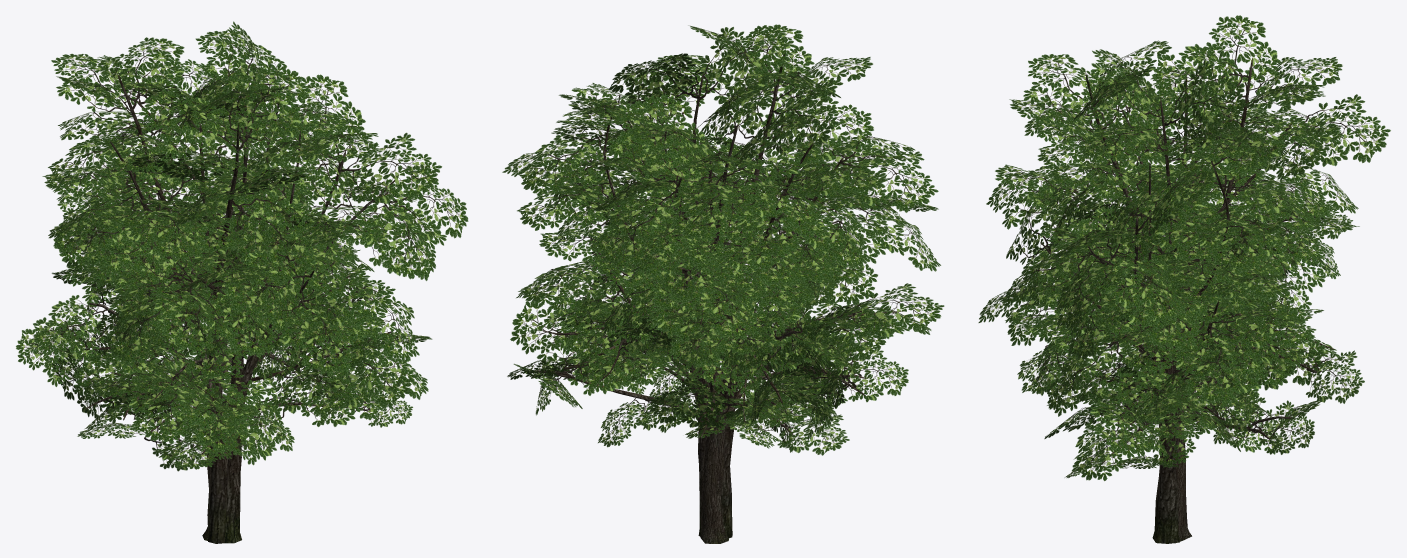
The model's file is tree1.glb.
3 renders of one model, left to right at view 1: azimuth 30°, elevation 25°; view 2: azimuth 150°, elevation 25°; view 3: azimuth 270°, elevation 25°, orthographic. The views are drawn at different scales.
Parts seen in each view (by area): view 1: treetop_0, treetop.008_0, trunk_0, trunk.008_0; view 2: treetop_0, treetop.008_0, trunk.008_0, trunk_0; view 3: treetop_0, treetop.008_0, trunk_0, trunk.008_0.
Boxes of the visible parts, x1,y1,x2,y2 form: treetop_0: (42, 21, 468, 452); treetop.008_0: (16, 190, 412, 471); trunk_0: (110, 74, 394, 543); trunk.008_0: (83, 207, 368, 540); treetop_0: (502, 24, 944, 427); treetop.008_0: (507, 138, 908, 455); trunk.008_0: (529, 186, 866, 543); trunk_0: (589, 49, 902, 538); treetop_0: (978, 15, 1390, 481); treetop.008_0: (1005, 162, 1364, 477); trunk_0: (1041, 58, 1313, 543); trunk.008_0: (1045, 221, 1334, 543).
Bounding box in the file's own units: 8.89 × 10.42 × 8.04.
Materials: 2 (2 with a texture image).
